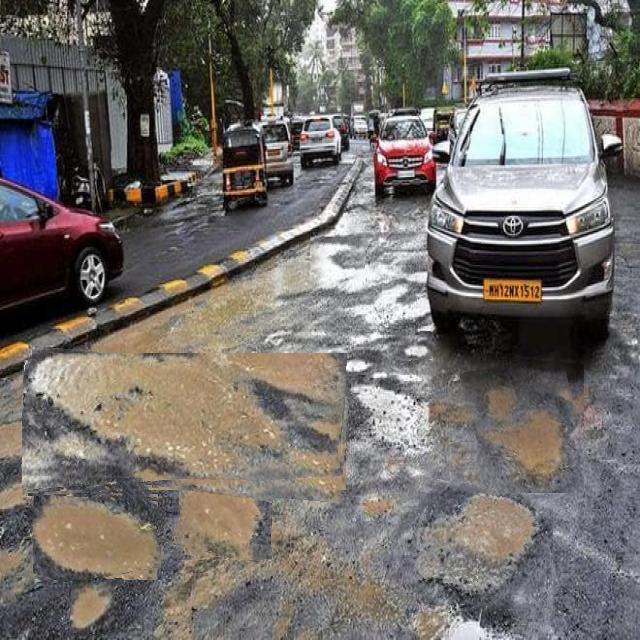Pothole: (22, 353, 348, 497), (404, 483, 553, 613), (465, 355, 584, 493), (30, 488, 162, 580), (174, 475, 272, 560), (310, 237, 367, 296), (70, 582, 114, 635), (396, 332, 433, 361)
